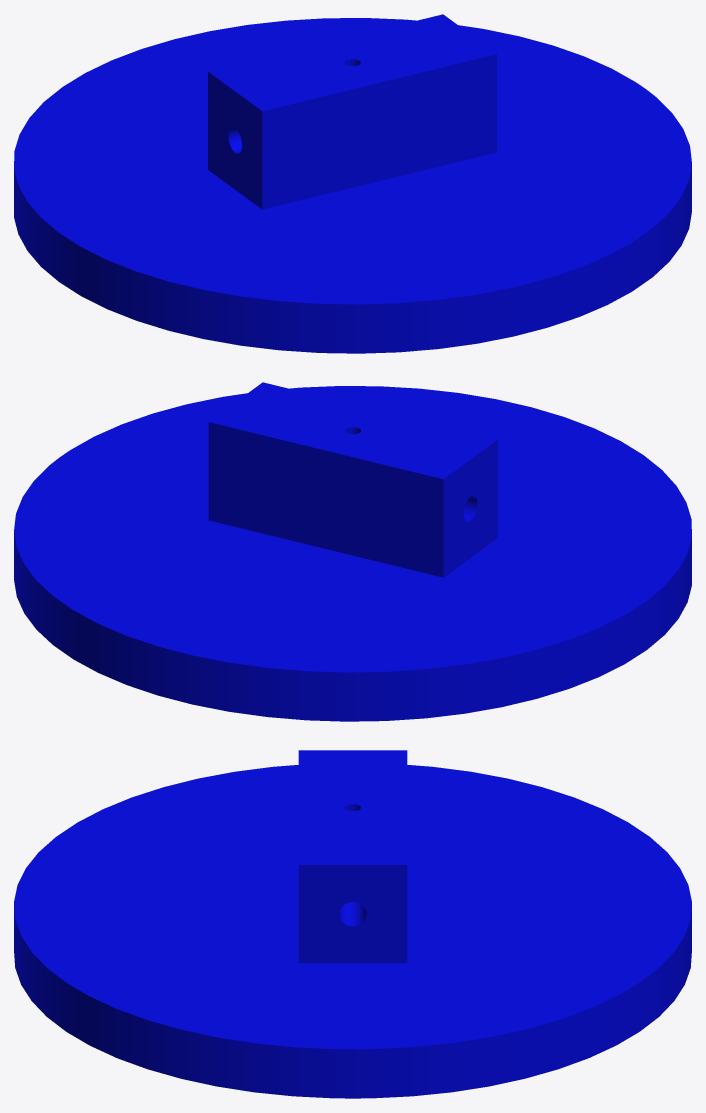
File: yaw_platform.dae
3 views of the same model, one above another, from view 1: azimuth 30°, elevation 25°; view 2: azimuth 150°, elevation 25°; view 3: azimuth 270°, elevation 25° (orthographic).
Visible parts, largest first — view 1: Body_1; view 2: Body_1; view 3: Body_1.
Part boxes in pixels (<box>): Body_1: <box>14,14,691,353</box>; Body_1: <box>14,382,691,721</box>; Body_1: <box>14,750,691,1098</box>.
Size of the model in its own units: 0.125 by 0.1249 by 0.03.
